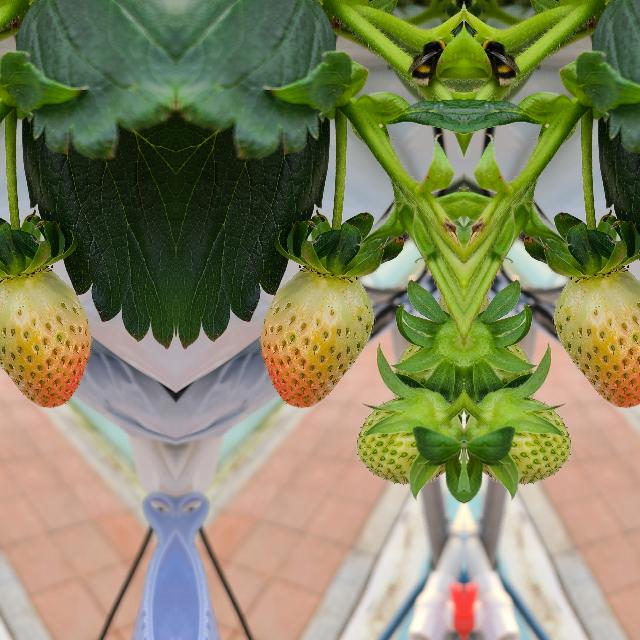Health_25: (358, 395, 462, 489), (464, 395, 568, 489)
Health_50: (260, 269, 372, 407), (0, 269, 90, 407), (553, 269, 640, 407)
